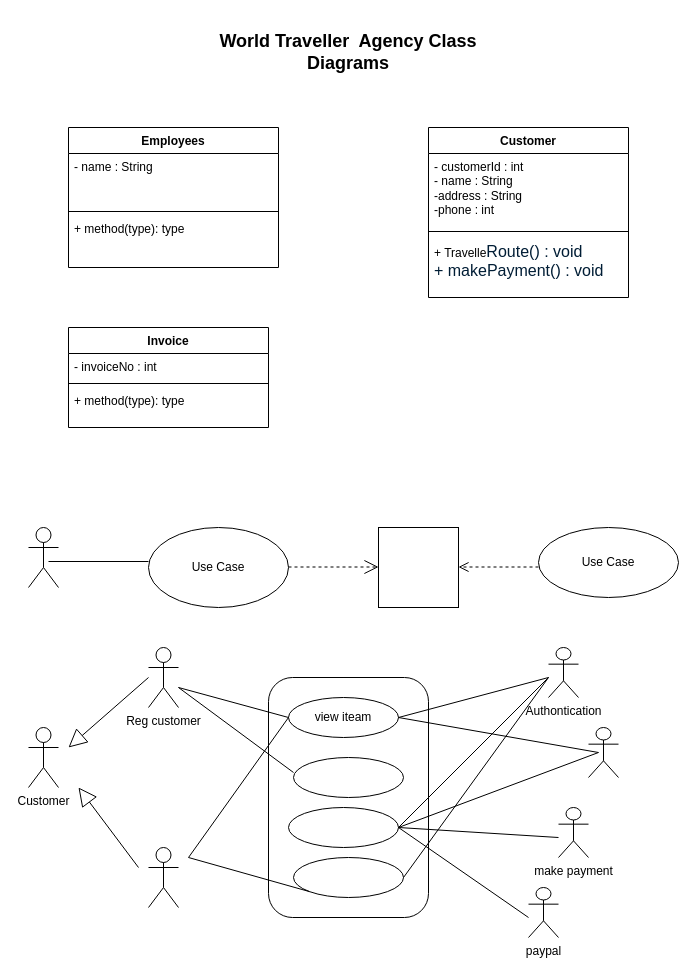
This 696x975 diagram has some shape labels left out. The centre of each missing label's shape, as x and y in pixels:
Actor: the point at 43,557
check out: the point at 343,827
client reg: the point at 348,877
identity: the point at 603,752
New Customer: the point at 163,877
purchases: the point at 348,777
